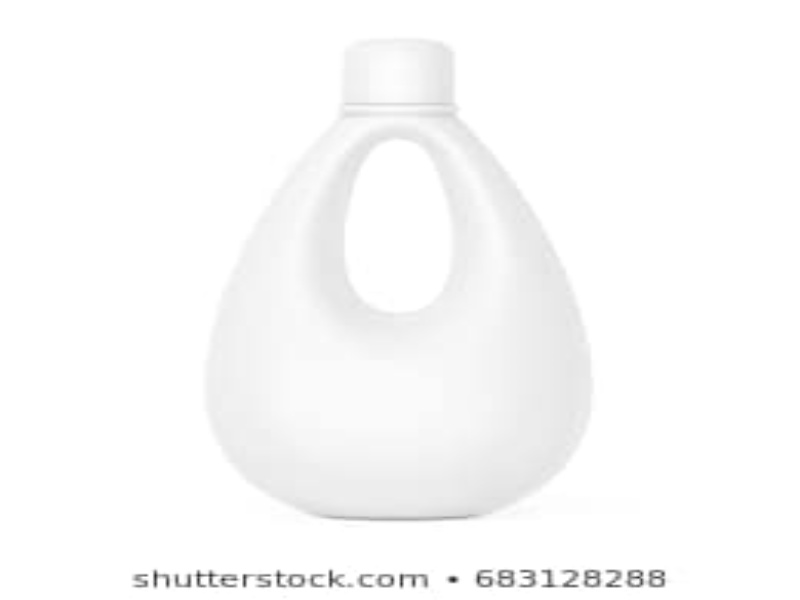detergent-bottle: (198, 31, 602, 529)
